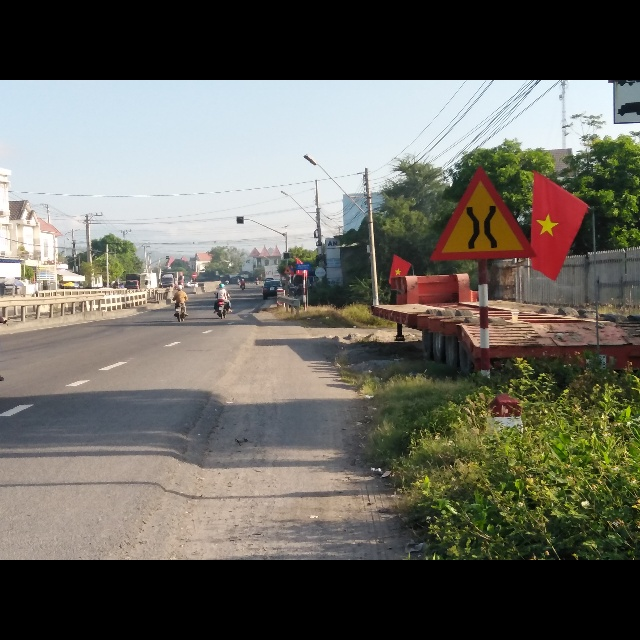Cầu hẹp: (432, 166, 537, 260)
